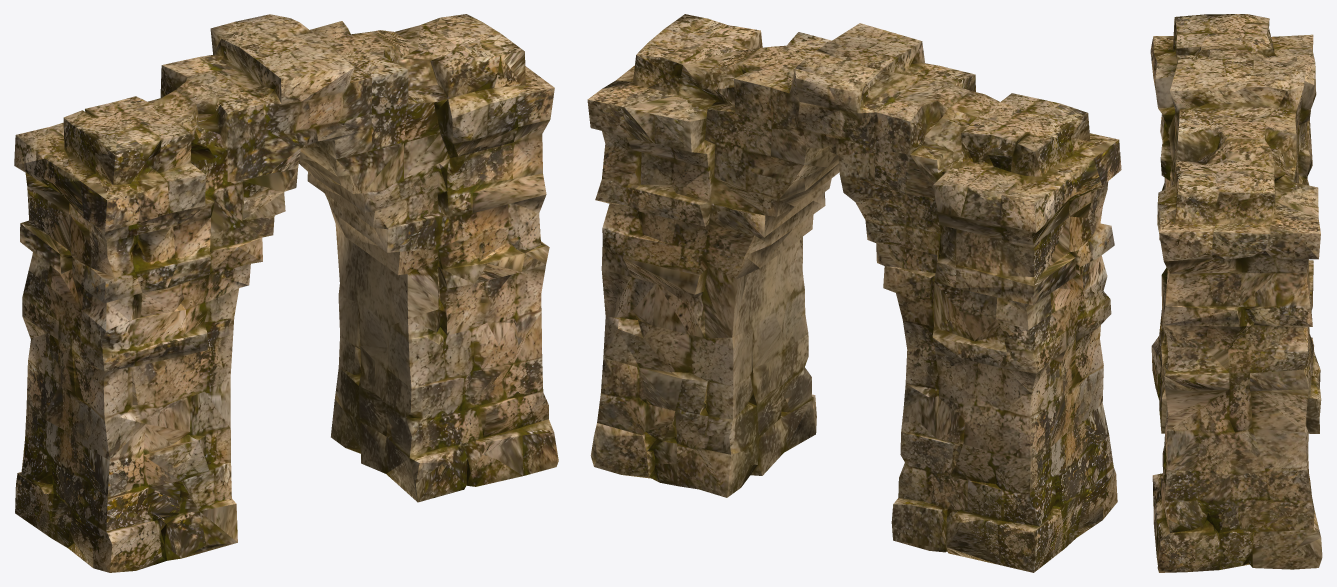
Rendered from ARQ_ArcoMaya_01_LOD2.fbx.
3 views of the same model, side by side, from view 1: azimuth 30°, elevation 25°; view 2: azimuth 150°, elevation 25°; view 3: azimuth 270°, elevation 25° (orthographic). The views are drawn at different scales.
Visible parts, largest first — view 1: ARQ_ArcoMaya_01_Mesh000; view 2: ARQ_ArcoMaya_01_Mesh000; view 3: ARQ_ArcoMaya_01_Mesh000.
Part boxes in pixels (x1,y1,x2,y2): ARQ_ArcoMaya_01_Mesh000: (14,14,558,572); ARQ_ArcoMaya_01_Mesh000: (587,14,1121,572); ARQ_ArcoMaya_01_Mesh000: (1150,14,1322,572).
Bounding box in the file's own units: 4.48 × 4.2 × 1.63.
